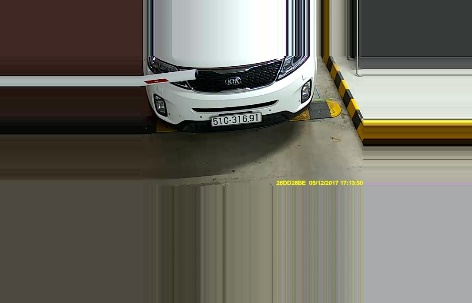plate: (209, 107, 265, 129)
